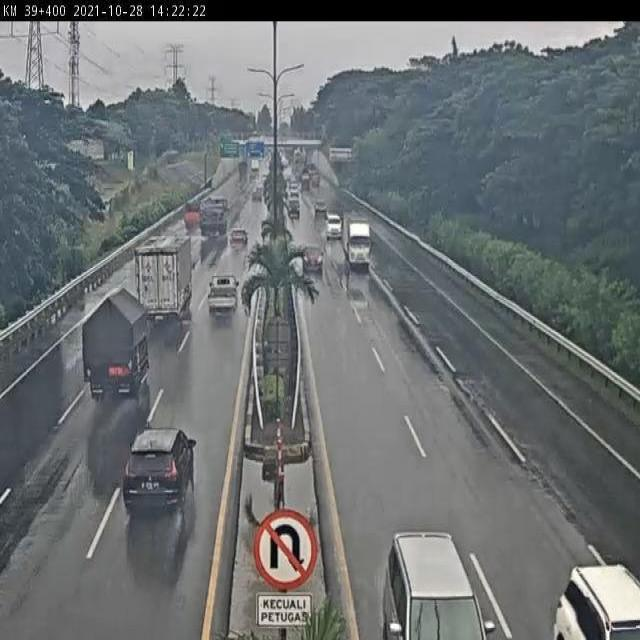car: (123, 424, 195, 524), (204, 275, 238, 323), (301, 243, 324, 275), (227, 225, 249, 251)
truck: (82, 288, 152, 409), (134, 233, 193, 327), (342, 211, 371, 267), (196, 197, 229, 240), (182, 201, 203, 232)
